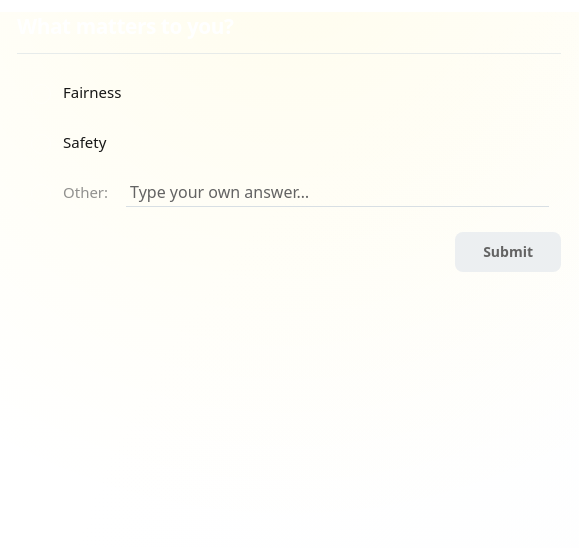
the MCQ Other assist › shows an edited note when a turn rewrites the answer with no reply
Click the radio button labelled "Other:" at (70, 193), box x1=17 y1=170 x2=122 y2=216
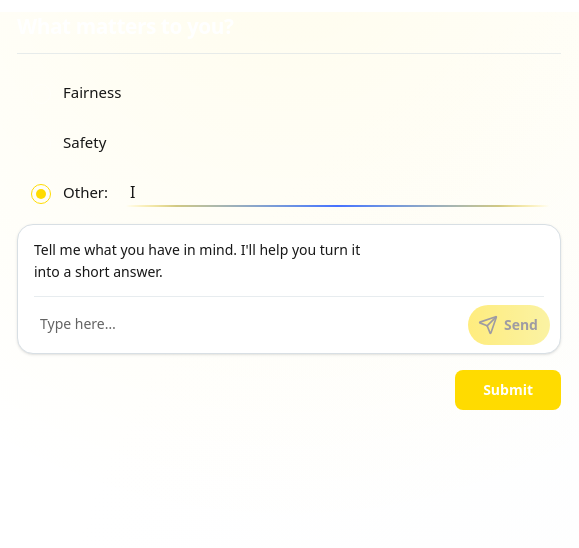
Type "It should be useful" into the text box with placeholder "Type here…" at (245, 327), box x1=28 y1=309 x2=462 y2=345
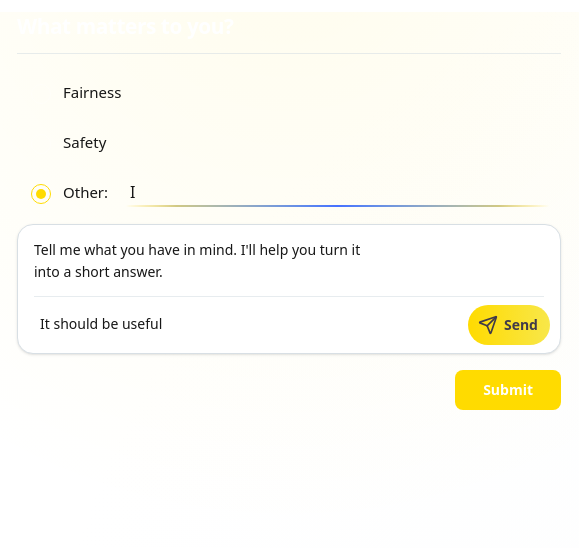
Click the button with aria-label "Send message" at (509, 325), box x1=468 y1=305 x2=550 y2=345
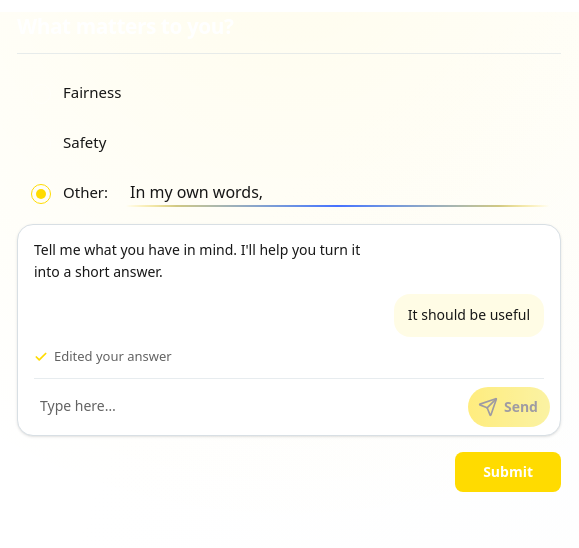
Expected: the text "Edited your answer" is shown, x1=34 y1=347 x2=172 y2=366
Type "Anything else?" into the text box with placeholder "Type here…" at (245, 409), box x1=28 y1=391 x2=462 y2=427
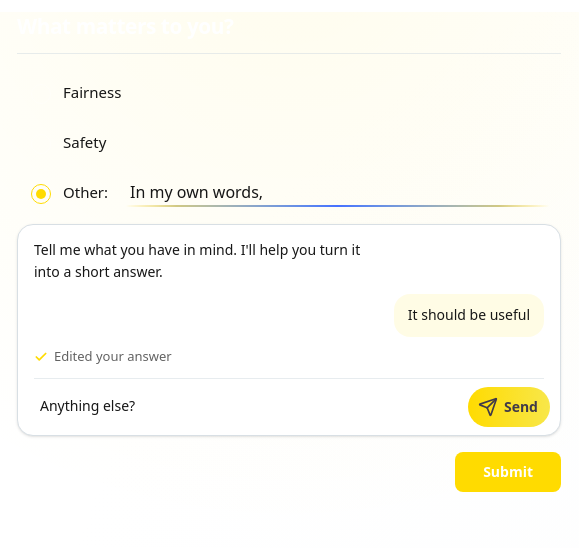
Click the button with aria-label "Send message" at (509, 407), box x1=468 y1=387 x2=550 y2=427
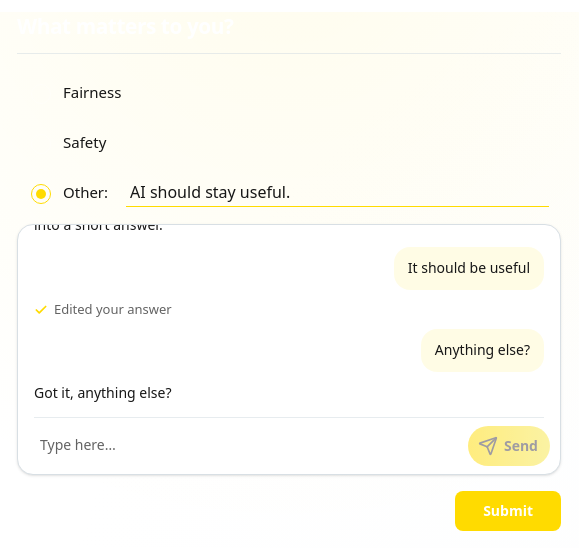
Expected: the text "Got it, anything else?" is shown, x1=34 y1=382 x2=172 y2=405
